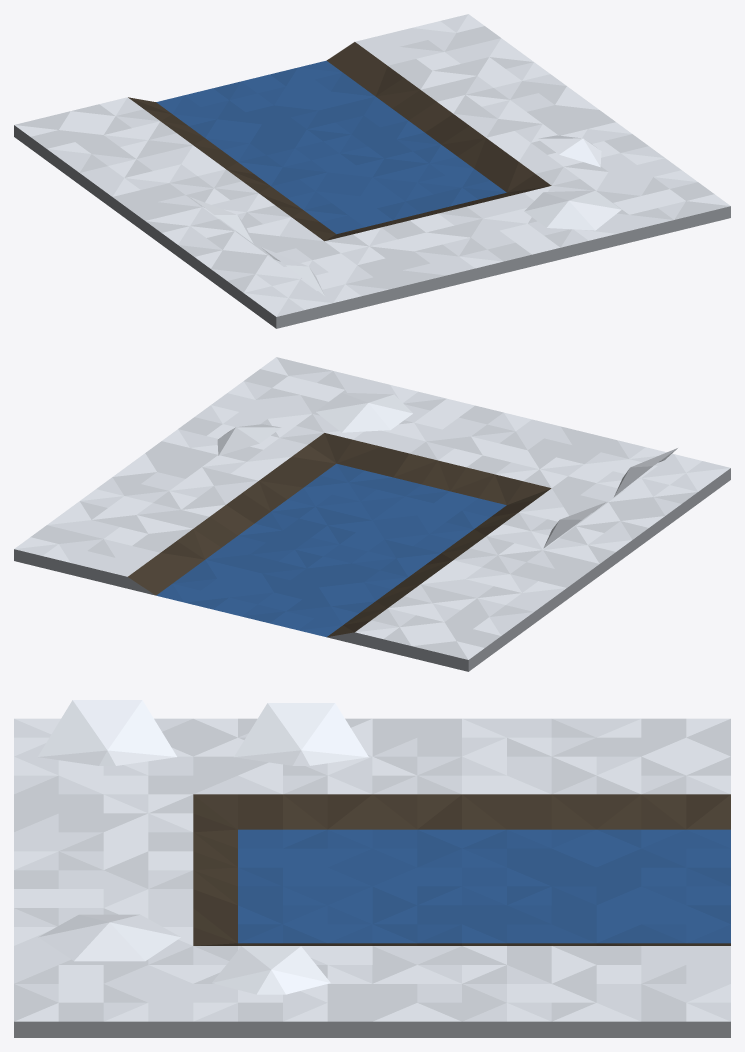
The model's file is river_end_snow.glb.
3 renders of one model, top to bottom at view 1: azimuth 30°, elevation 25°; view 2: azimuth 150°, elevation 25°; view 3: azimuth 270°, elevation 25°, orthographic. The views are drawn at different scales.
Visible parts, largest first — view 1: river_end_snow; view 2: river_end_snow; view 3: river_end_snow.
Part boxes in pixels (x1,y1,x2,y2): river_end_snow: [14, 14, 730, 328]; river_end_snow: [14, 357, 730, 671]; river_end_snow: [14, 700, 730, 1037].
Bounding box in the file's own units: 4 × 0.482 × 4.
